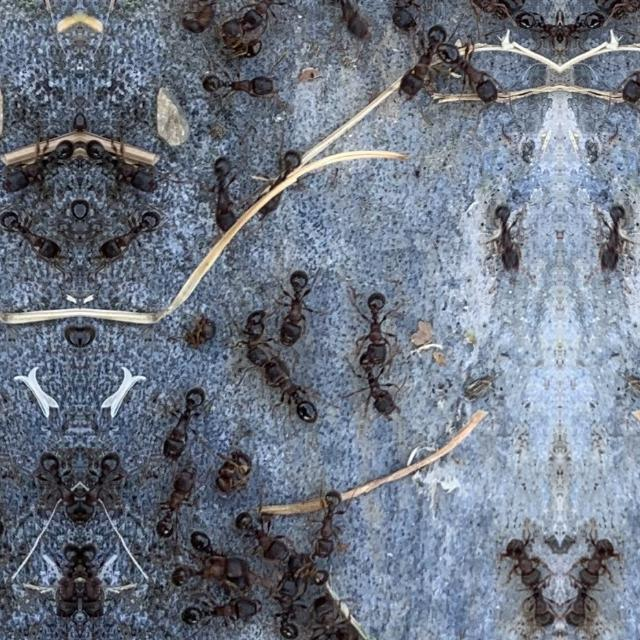Tetramorium: (80, 124, 166, 198), (0, 122, 80, 198), (276, 263, 336, 363), (391, 15, 455, 101), (191, 146, 245, 244), (435, 43, 517, 107), (80, 428, 130, 528), (30, 428, 80, 528), (274, 374, 340, 444), (248, 155, 310, 227), (95, 214, 173, 270), (348, 290, 406, 364), (140, 466, 198, 540), (160, 388, 212, 466), (0, 214, 64, 270), (80, 548, 126, 624), (34, 548, 80, 624), (198, 62, 284, 102), (179, 596, 273, 632), (356, 360, 406, 426), (486, 202, 530, 276), (590, 202, 634, 276), (316, 0, 382, 46), (165, 556, 251, 588), (284, 540, 336, 592), (246, 505, 296, 559), (304, 501, 358, 551), (305, 589, 359, 639), (266, 559, 300, 637), (235, 0, 302, 38), (499, 522, 541, 580), (579, 522, 621, 580), (458, 0, 534, 32), (602, 43, 640, 107), (210, 447, 260, 493), (174, 307, 230, 348), (183, 520, 235, 564), (521, 581, 559, 639), (561, 581, 599, 639), (172, 0, 226, 40), (375, 0, 433, 34), (238, 304, 268, 368), (584, 0, 640, 32), (516, 14, 558, 56), (562, 14, 604, 56), (213, 22, 264, 56), (0, 464, 20, 540)
